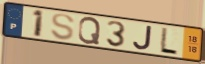1: (31, 9, 44, 39)
3: (105, 20, 127, 48)
J: (132, 25, 154, 52)
L: (158, 26, 180, 56)
Q: (77, 16, 102, 46)
S: (50, 13, 76, 42)
